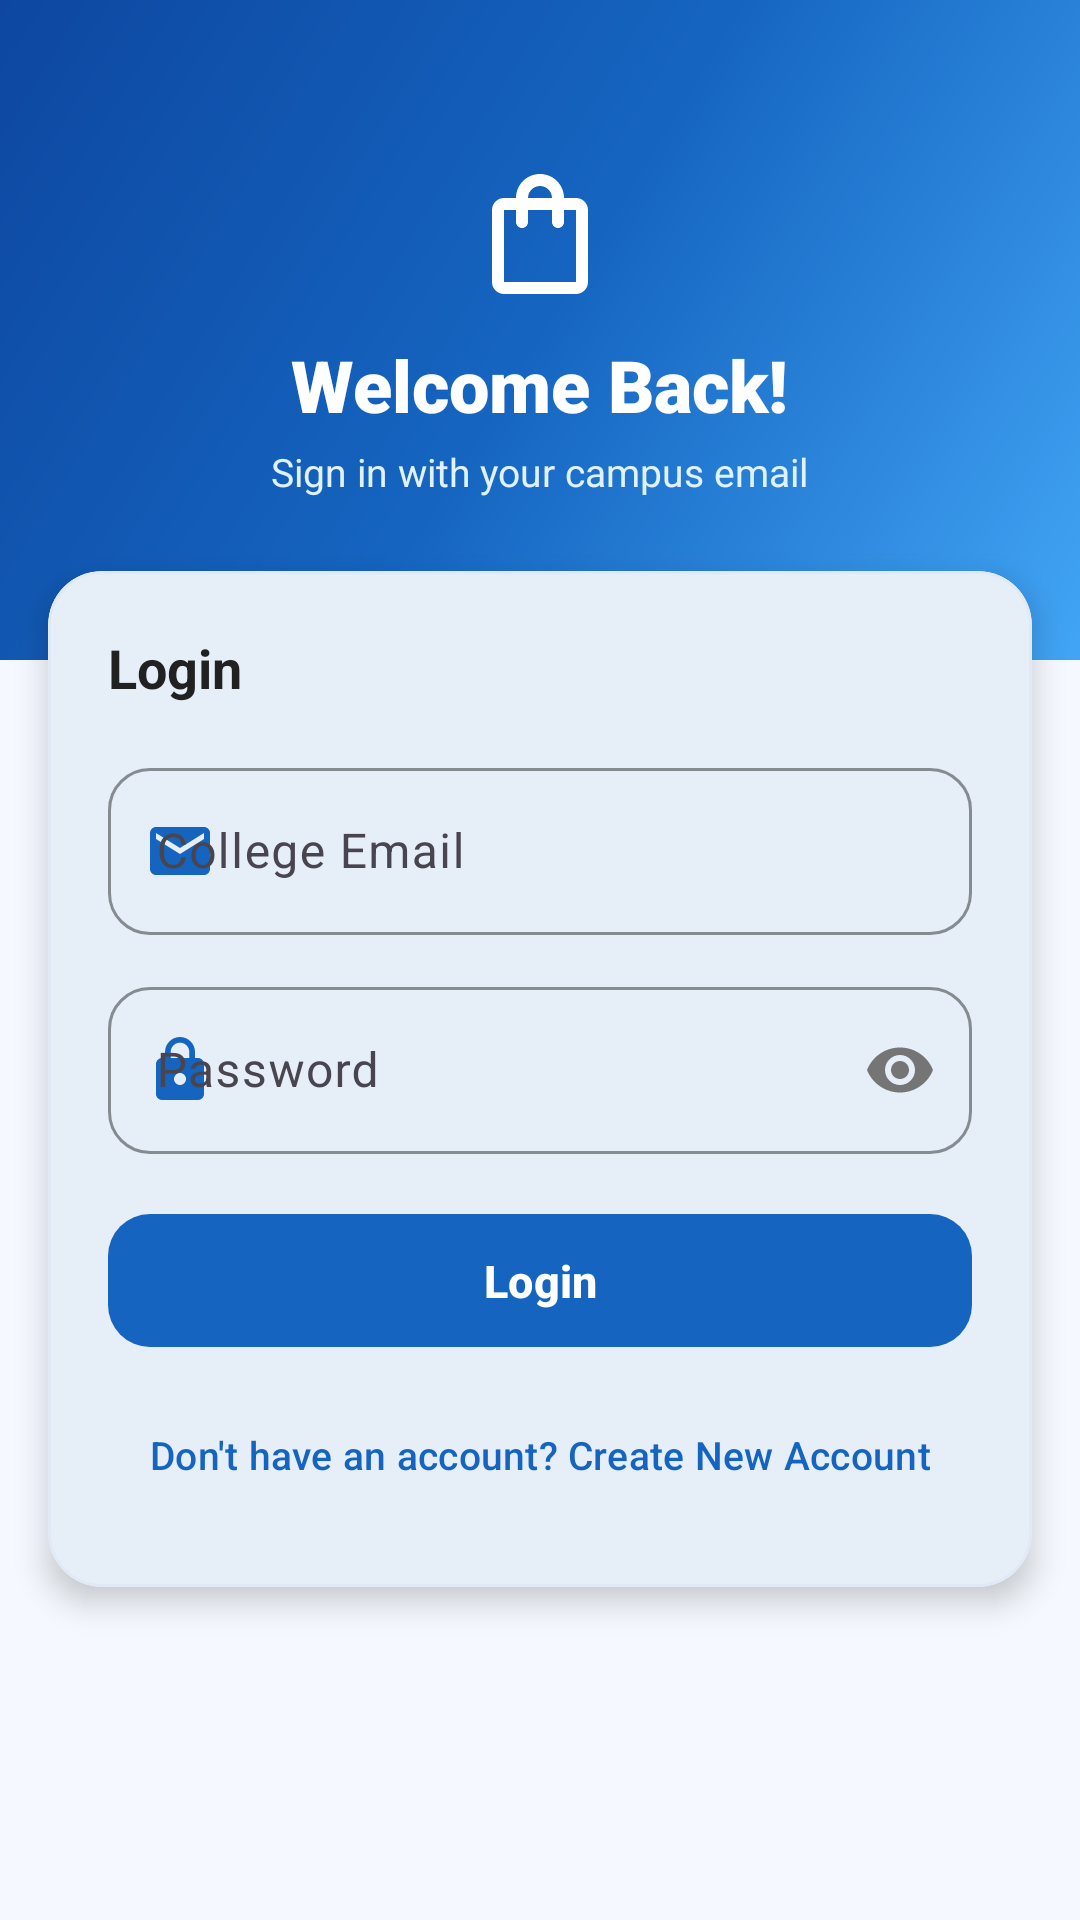

Where to tap for icons on this 1080*1920 app screen, as [x,y]:
shopping bag: [540,234]
